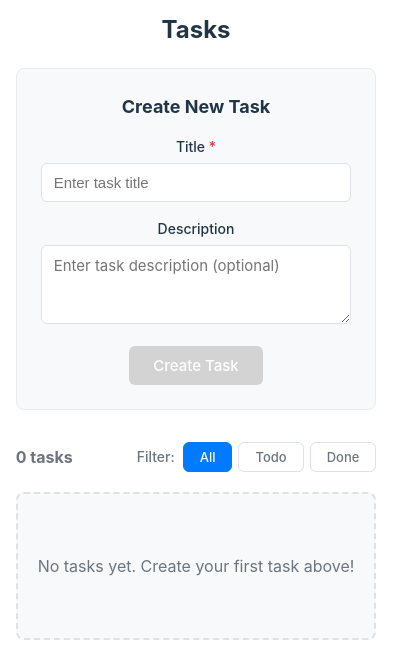
Scenario: TaskList › creates a new task
The width and height of the screenshot is (393, 657).
Check: the text "No tasks yet. Create your first task above!" is shown, box [38,554,354,578]
Type "New Task" into the field with placeholder "Enter task title" at (196, 182), box [41,163,351,202]
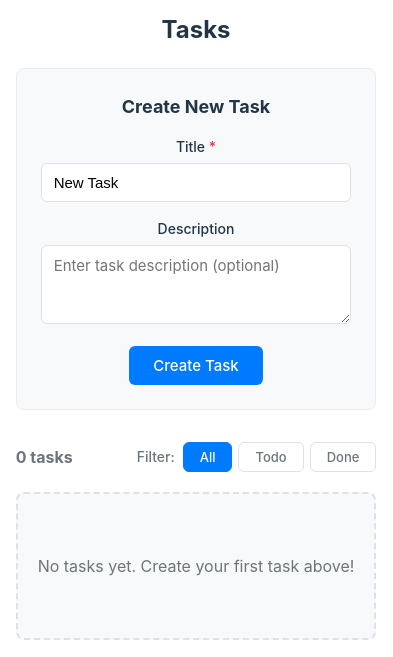
Type "New Description" into the text box with placeholder "Enter task description (optional)" at (196, 284), box [41,245,351,324]
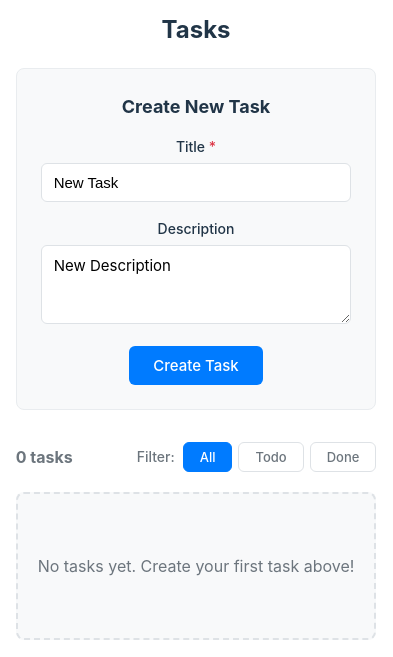
Click the button "Create Task" at (196, 366), box [129,346,263,385]
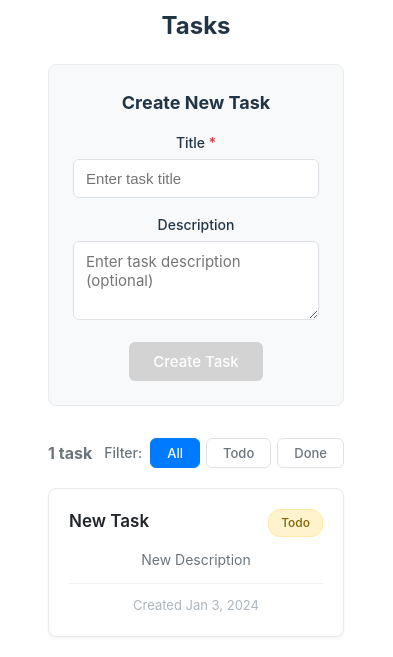
Check: the heading "New Task" is shown, box [69,509,149,534]
